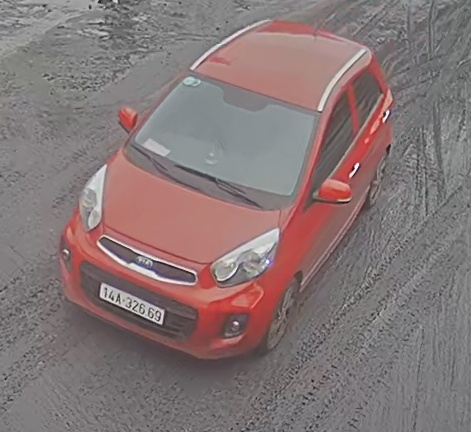vehicle plate: (96, 278, 168, 327)
